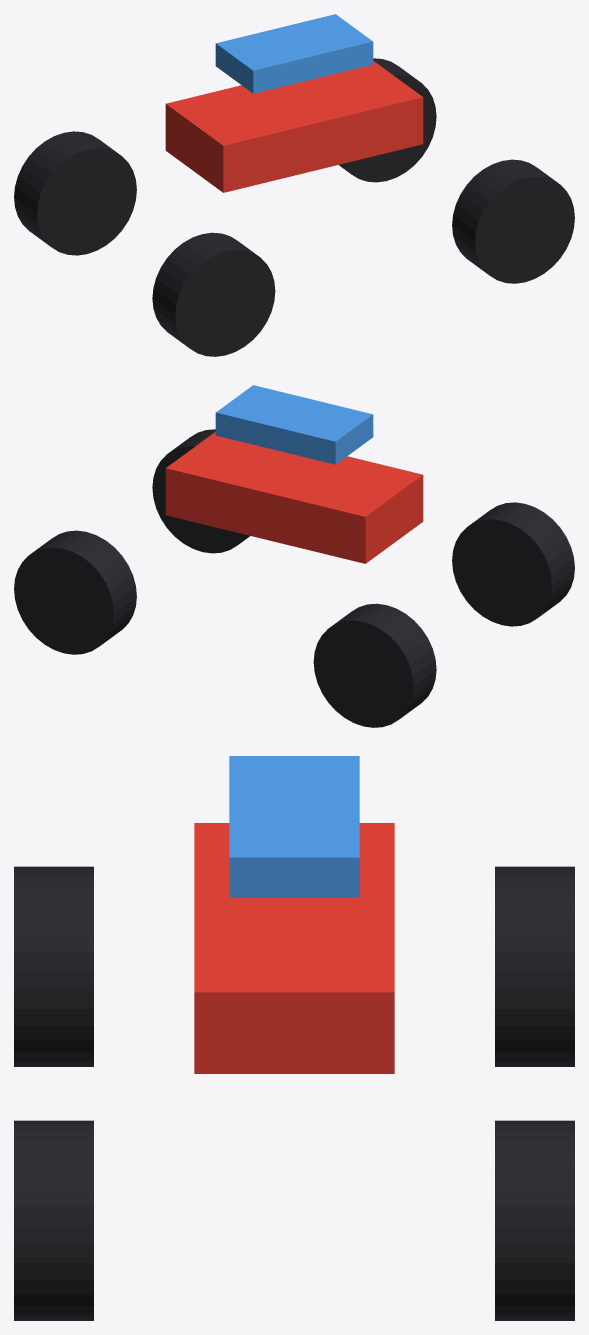
Rendered from npc_0bf7ea90.glb.
The picture shows the model from 3 angles, top to bottom: view 1: azimuth 30°, elevation 25°; view 2: azimuth 150°, elevation 25°; view 3: azimuth 270°, elevation 25°; orthographic projection. The views are drawn at different scales.
Visible parts, largest first — view 1: Car_Body, Car_Wheel_RL, Car_Wheel_FR, Car_Wheel_RR, Car_Windows, Car_Wheel_FL; view 2: Car_Body, Car_Wheel_RR, Car_Wheel_FL, Car_Wheel_RL, Car_Windows, Car_Wheel_FR; view 3: Car_Body, Car_Windows, Car_Wheel_FL, Car_Wheel_FR, Car_Wheel_RL, Car_Wheel_RR.
Part boxes in pixels (left/top/right/bottom): Car_Body: left=165, top=61, right=423, bottom=192; Car_Wheel_RL: left=14, top=131, right=136, bottom=255; Car_Wheel_FR: left=452, top=159, right=574, bottom=283; Car_Wheel_RR: left=152, top=232, right=275, bottom=356; Car_Windows: left=215, top=14, right=373, bottom=93; Car_Wheel_FL: left=339, top=58, right=436, bottom=182; Car_Body: left=165, top=432, right=423, bottom=563; Car_Wheel_RR: left=452, top=502, right=574, bottom=626; Car_Wheel_FL: left=14, top=530, right=136, bottom=654; Car_Wheel_RL: left=313, top=603, right=436, bottom=727; Car_Windows: left=215, top=385, right=373, bottom=464; Car_Wheel_FR: left=152, top=429, right=249, bottom=553; Car_Body: left=194, top=823, right=394, bottom=1073; Car_Windows: left=229, top=756, right=359, bottom=897; Car_Wheel_FL: left=495, top=1120, right=574, bottom=1320; Car_Wheel_FR: left=14, top=1120, right=93, bottom=1320; Car_Wheel_RL: left=495, top=866, right=574, bottom=1066; Car_Wheel_RR: left=14, top=866, right=93, bottom=1066.
Size of the model in its own units: 2 by 1.04 by 1.4.
